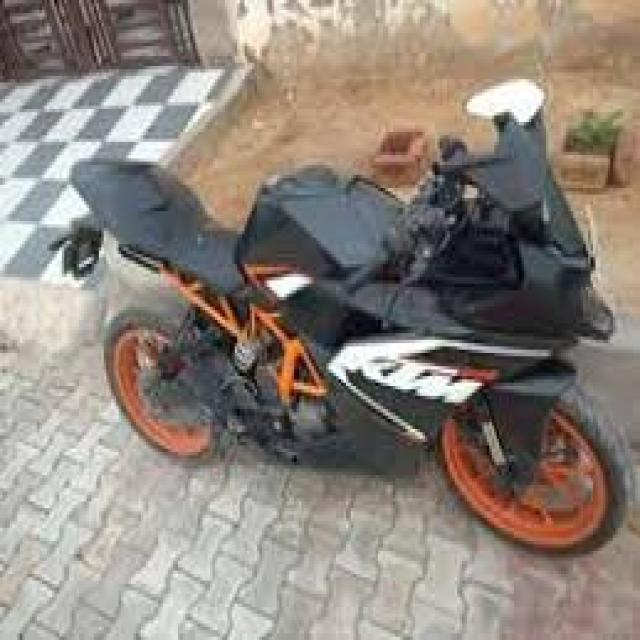bike: (42, 92, 625, 561)
